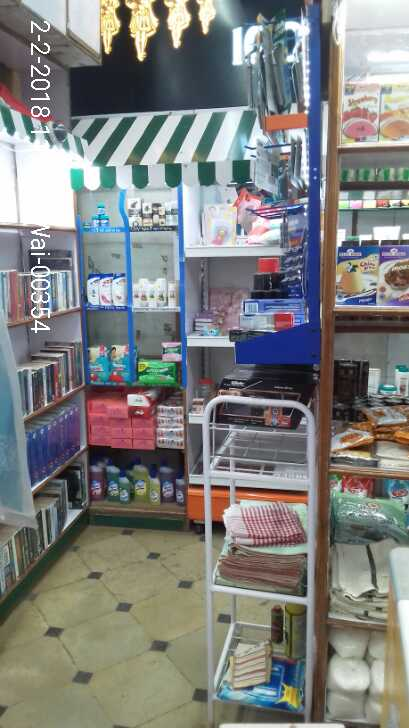vicks: (88, 201, 113, 232)
